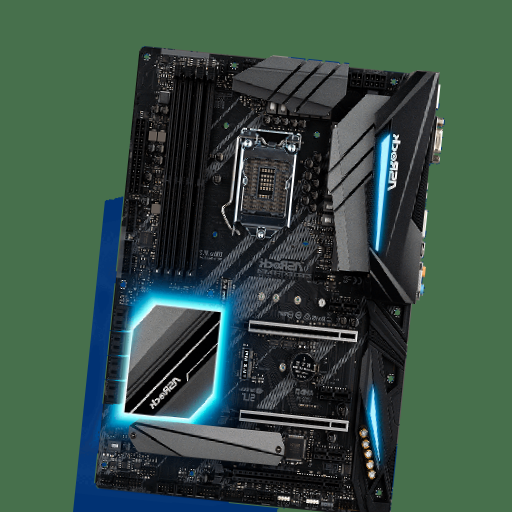CPU: (229, 132, 302, 241)
GPU: (215, 398, 349, 434), (210, 461, 342, 496), (227, 312, 359, 344)
MOTHERBOARD: (93, 44, 445, 512)
RAM: (151, 65, 220, 288)
SSD: (235, 346, 256, 383), (212, 280, 235, 313)
